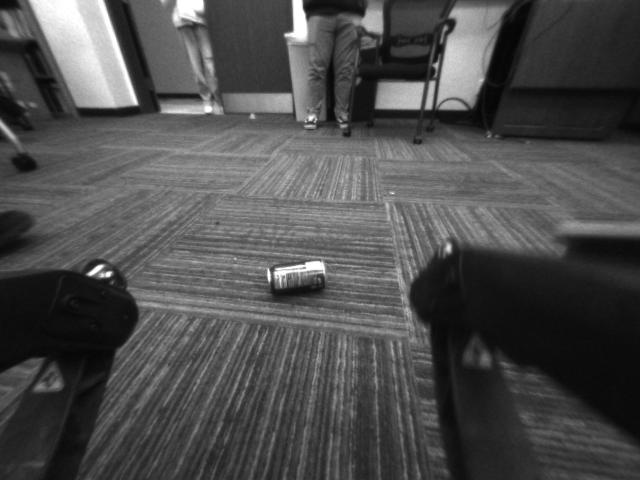can: (262, 254, 339, 304)
